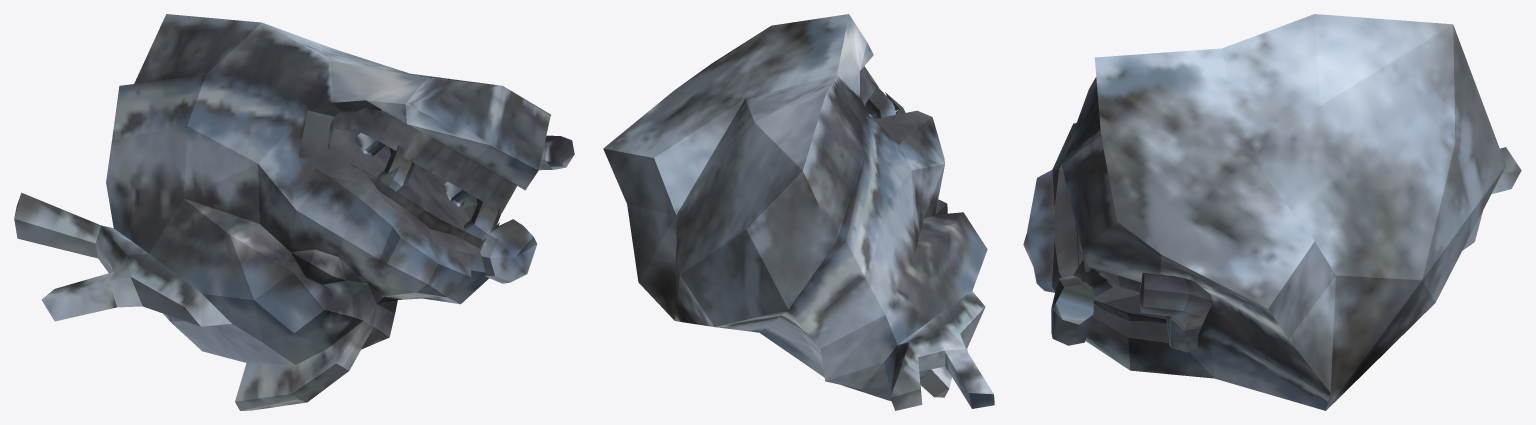
File: ShiZiTou_Snow.FBX
3 views of the same model, side by side, from view 1: azimuth 30°, elevation 25°; view 2: azimuth 150°, elevation 25°; view 3: azimuth 270°, elevation 25° (orthographic). The views are drawn at different scales.
Parts seen in each view (by area): view 1: Object004; view 2: Object004; view 3: Object004.
Boxes of the visible parts, x1,y1,x2,y2 form: Object004: (14, 14, 574, 410); Object004: (603, 14, 994, 410); Object004: (1023, 14, 1521, 410).
Size of the model in its own units: 94.03 by 67.32 by 78.05.
